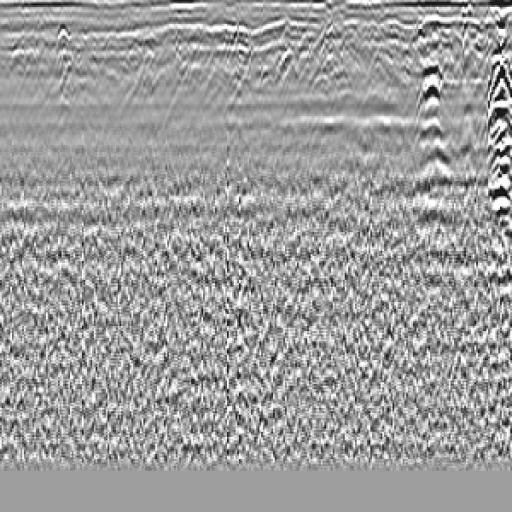metalic: (471, 26, 512, 297)
non-metallic: (407, 32, 458, 280)
